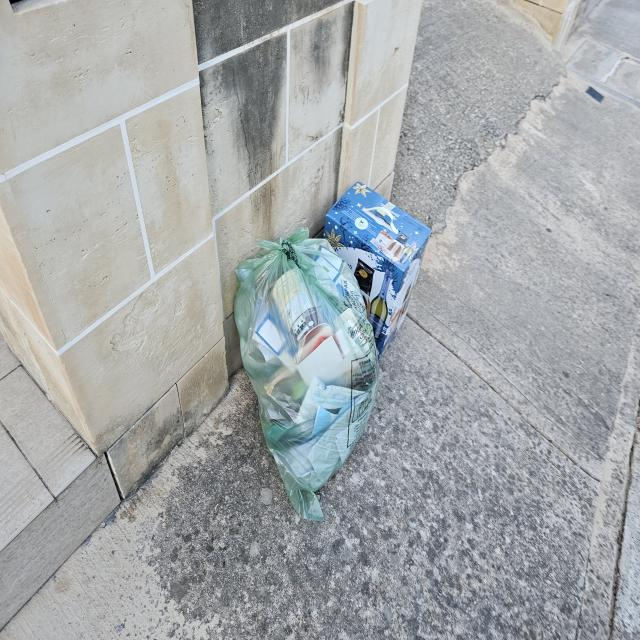grey_bag: (234, 238, 378, 509)
other_waste: (340, 180, 430, 351)
